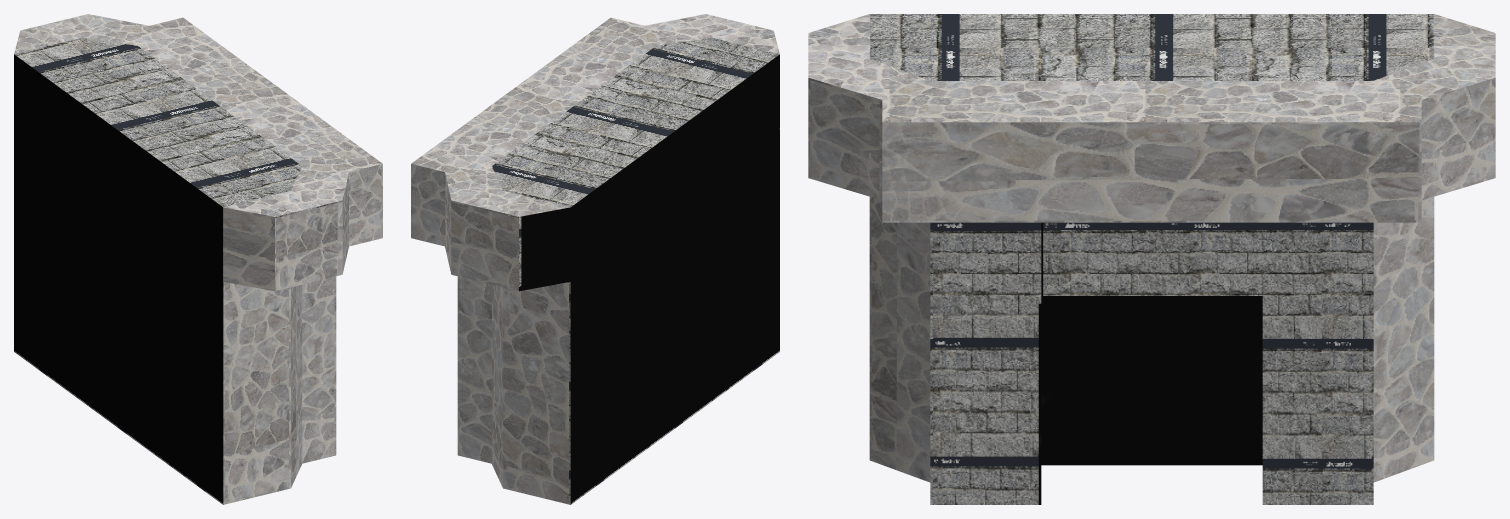
Rendered from doorbase.glb.
3 views of the same model, side by side, from view 1: azimuth 30°, elevation 25°; view 2: azimuth 150°, elevation 25°; view 3: azimuth 270°, elevation 25° (orthographic). The views are drawn at different scales.
Visible parts, largest first — view 1: Cube; view 2: Cube; view 3: Cube.
Part boxes in pixels (box(x1,y1,x2,y2)): Cube: box(14, 14, 382, 504); Cube: box(411, 14, 779, 504); Cube: box(808, 14, 1495, 504).
Size of the model in its own units: 2.82 by 4.89 by 7.58.
1 material, 1 textured.
